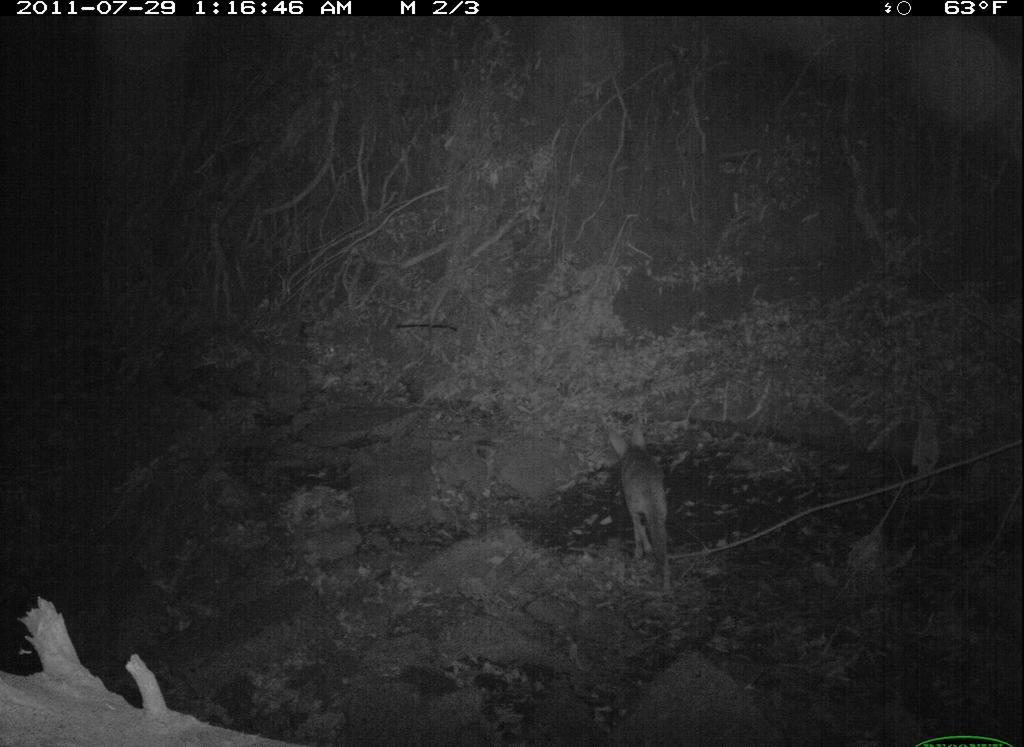coyote: (600, 401, 694, 594)
